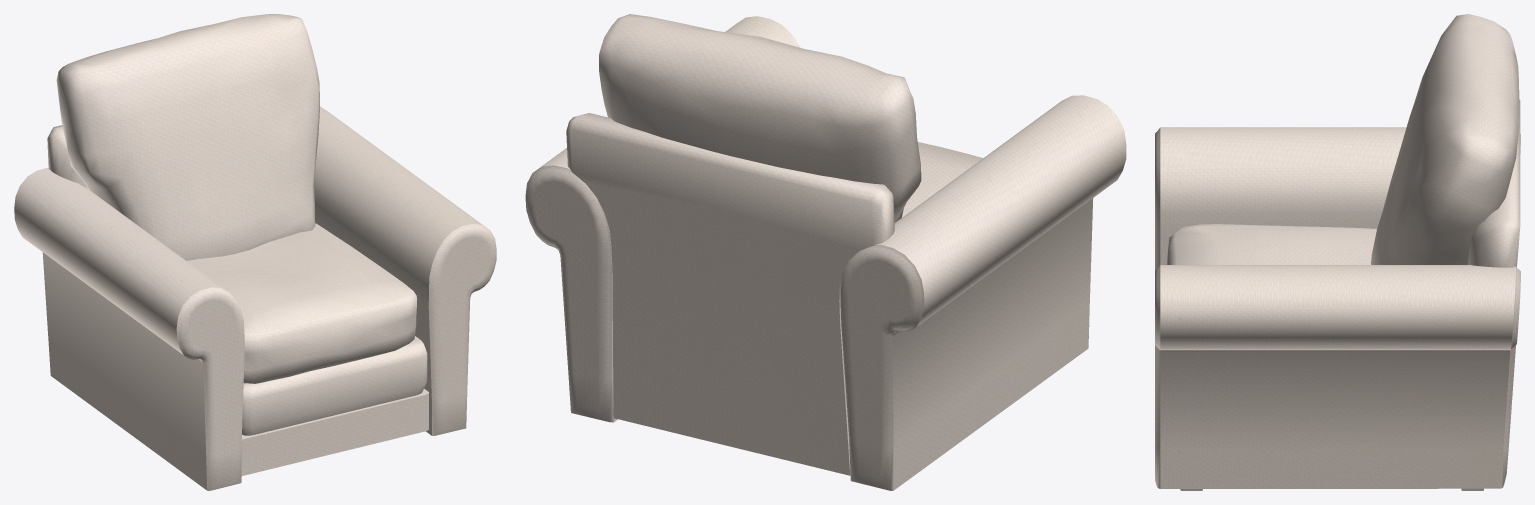
File: Amchair.fbx
3 views of the same model, side by side, from view 1: azimuth 30°, elevation 25°; view 2: azimuth 150°, elevation 25°; view 3: azimuth 270°, elevation 25° (orthographic). The views are drawn at different scales.
Parts seen in each view (by area): view 1: Amchair; view 2: Amchair; view 3: Amchair.
Boxes of the visible parts, <box> form: Amchair: <box>14,14,496,490</box>; Amchair: <box>525,14,1126,490</box>; Amchair: <box>1155,14,1520,490</box>.
Bounding box in the file's own units: 95.53 × 93.13 × 87.05.
